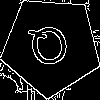Q: (26, 21, 74, 77)
